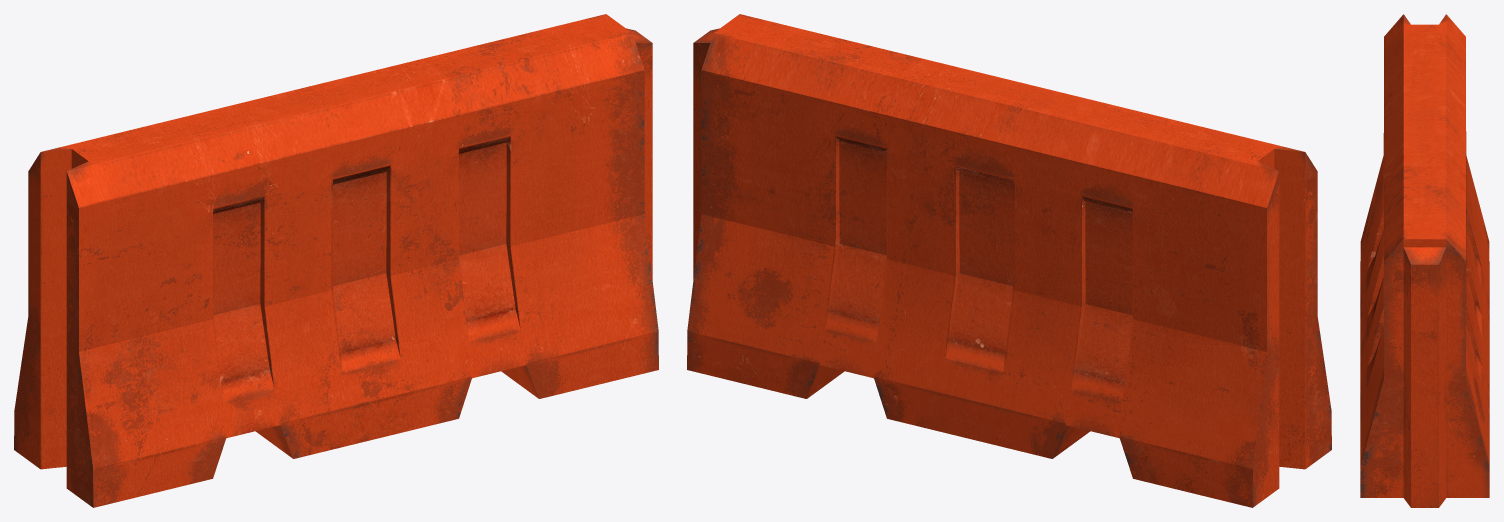
File: Obatacle_03.fbx
3 renders of one model, left to right at view 1: azimuth 30°, elevation 25°; view 2: azimuth 150°, elevation 25°; view 3: azimuth 270°, elevation 25°, orthographic. The views are drawn at different scales.
Parts seen in each view (by area): view 1: Obstacle_03; view 2: Obstacle_03; view 3: Obstacle_03.
Part boxes in pixels (x1=…): Obstacle_03: x1=14, y1=14, x2=658, y2=507; Obstacle_03: x1=687, y1=14, x2=1331, y2=507; Obstacle_03: x1=1360, y1=14, x2=1489, y2=507.
Bounding box in the file's own units: 0.1352 × 0.0695 × 0.0314.
1 material, 1 textured.
